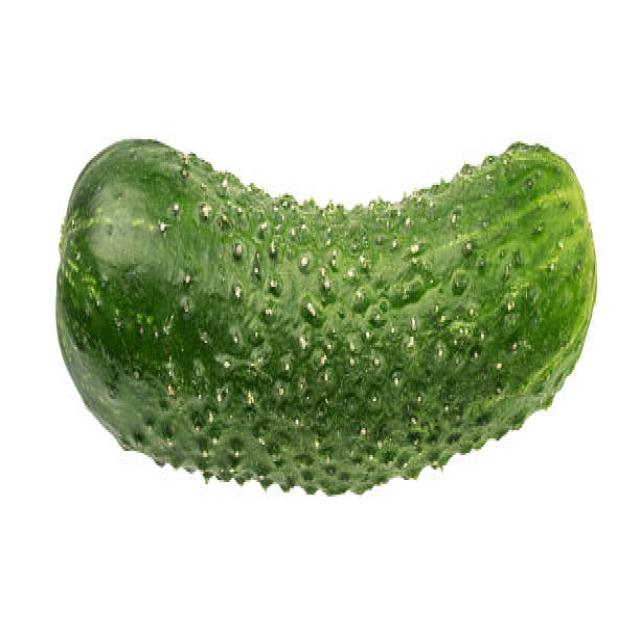cucumber: (56, 140, 597, 495)
